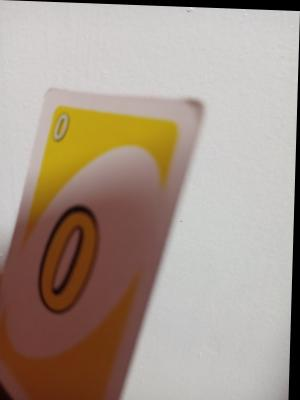num_0: (47, 106, 96, 161)
yellow: (32, 202, 106, 340)
